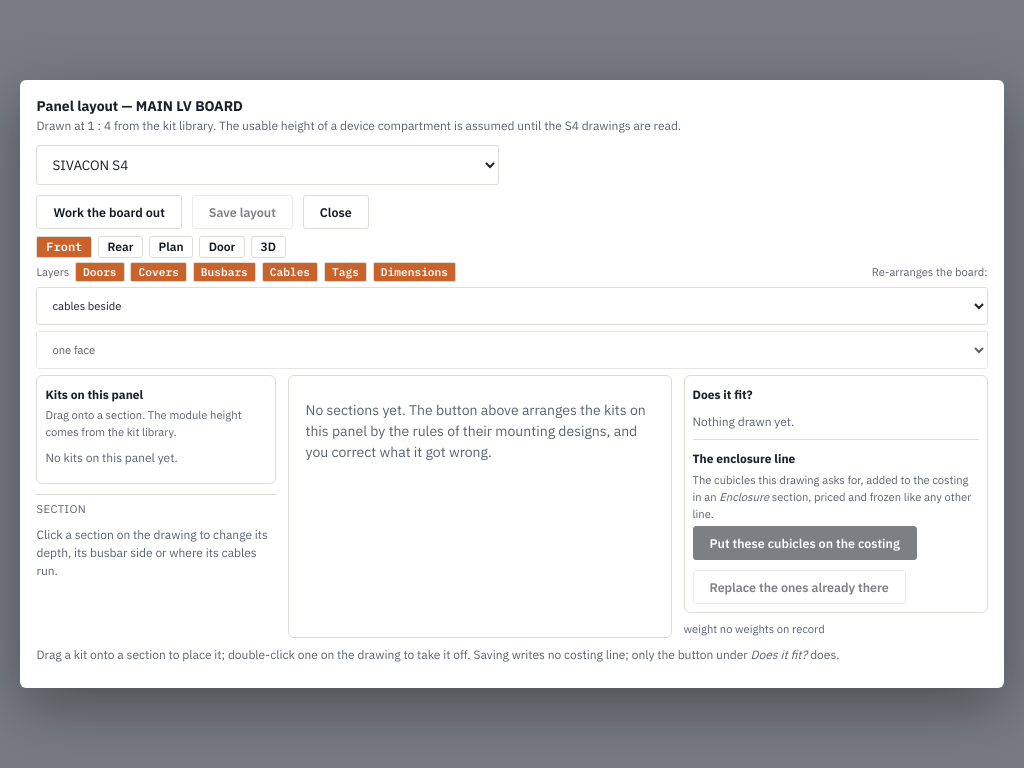
Test case: the panel layout pop-up › saves the drawing and says that no price moved
The width and height of the screenshot is (1024, 768).
Click the button "Work the board out".
click(109, 212)  # box [36,195,182,229]
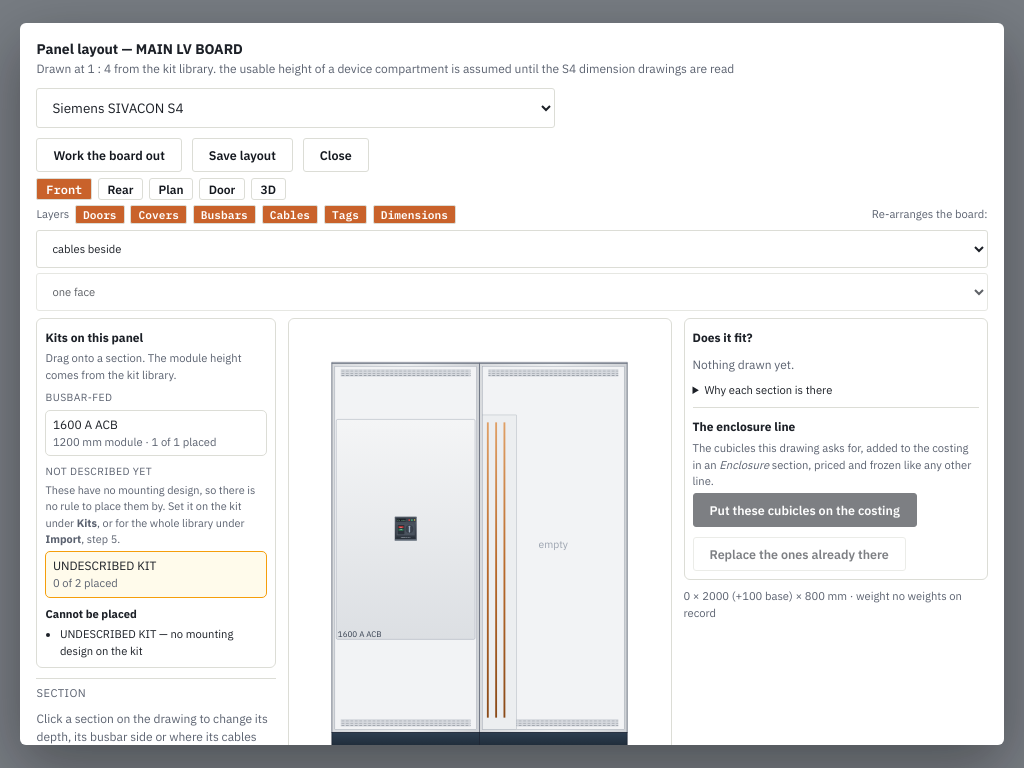
Expected: the button "Save layout" is enabled
Click the button "Save layout".
click(242, 155)  # box [192,138,293,172]
(page scrolled)
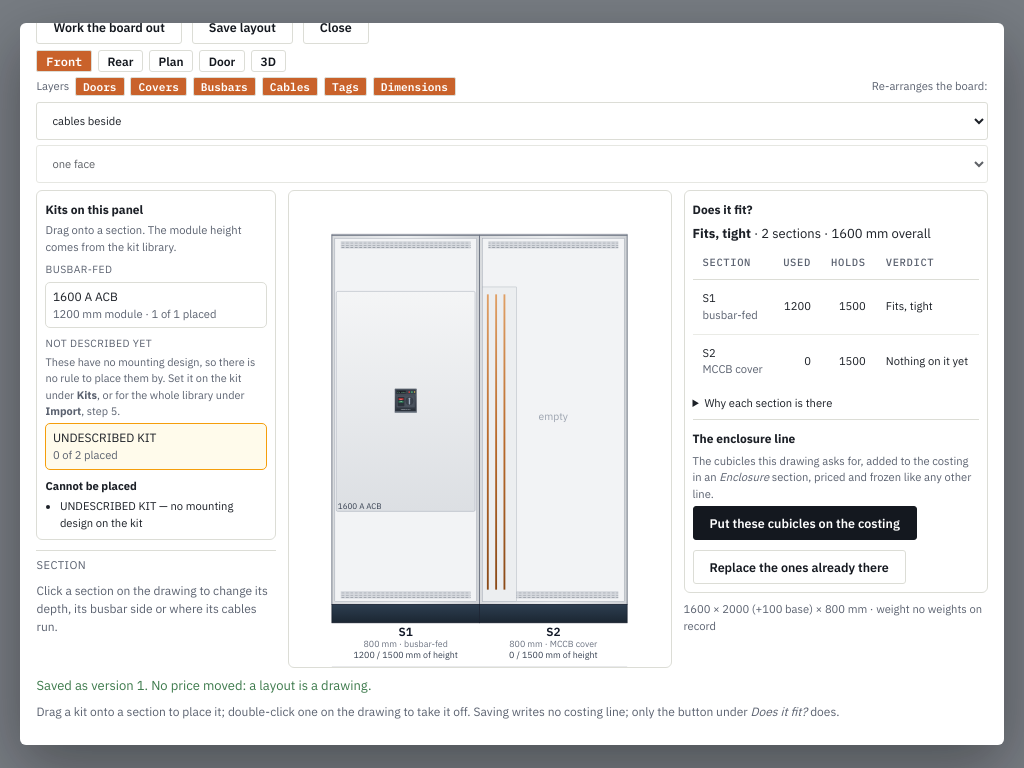
Expected: the text "Saved as version 1. No price moved: a layout is a drawing." is shown, [36,677,372,694]
